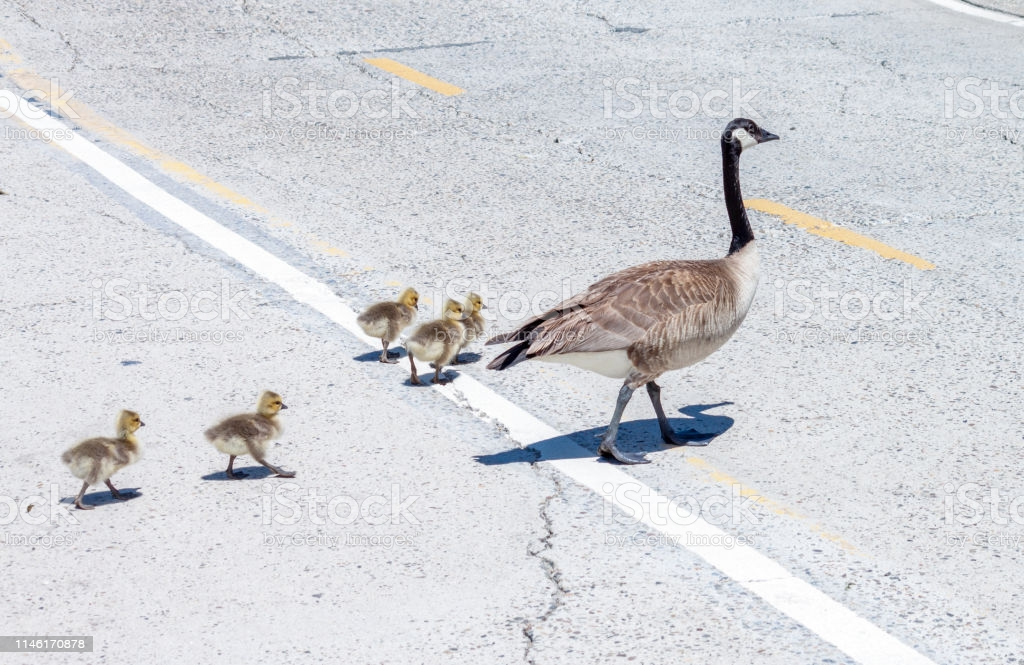goose: (483, 116, 781, 474)
